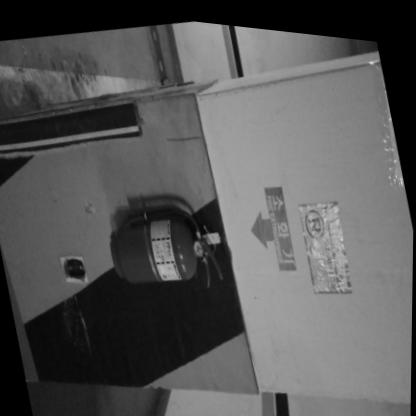FE: (103, 187, 227, 301)
